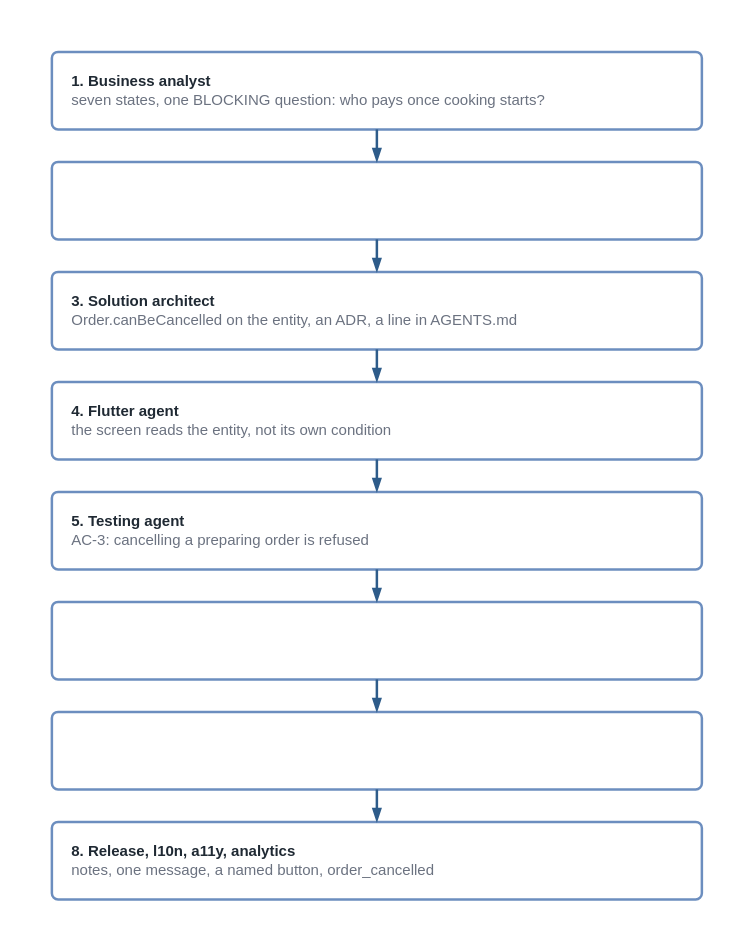
The diagram is 753 pixels wide and 950 high, and some of its shapes have lost their labels. The shapes that lost their labels are listed below. From the top down, each one's centre as x and y in pixels, then its label:
At pixel 376 200: "2. A person answers cancel only while placed or confirmed".
At pixel 376 640: "6. Security agent the rules let a customer write any status on their own order".
At pixel 376 750: "7. Pen test agent two attack tests, run on every push".
